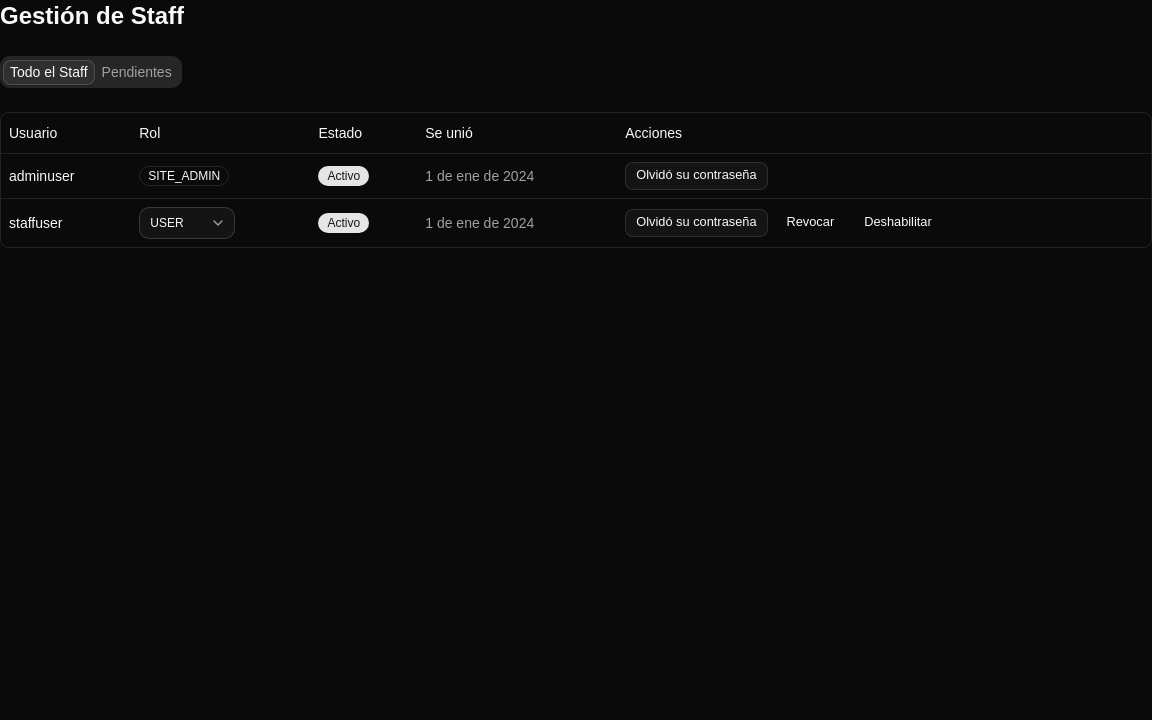
Test case: RecoveryCodeDialog (via StaffPage) › confirmation dialog shows the username and warning text
What coordinates should you click on to do the following:
click the button "Olvidó su contraseña" in the row of "staffuser"
I would click on:
 (696, 222)
Its box is [625, 208, 768, 236].
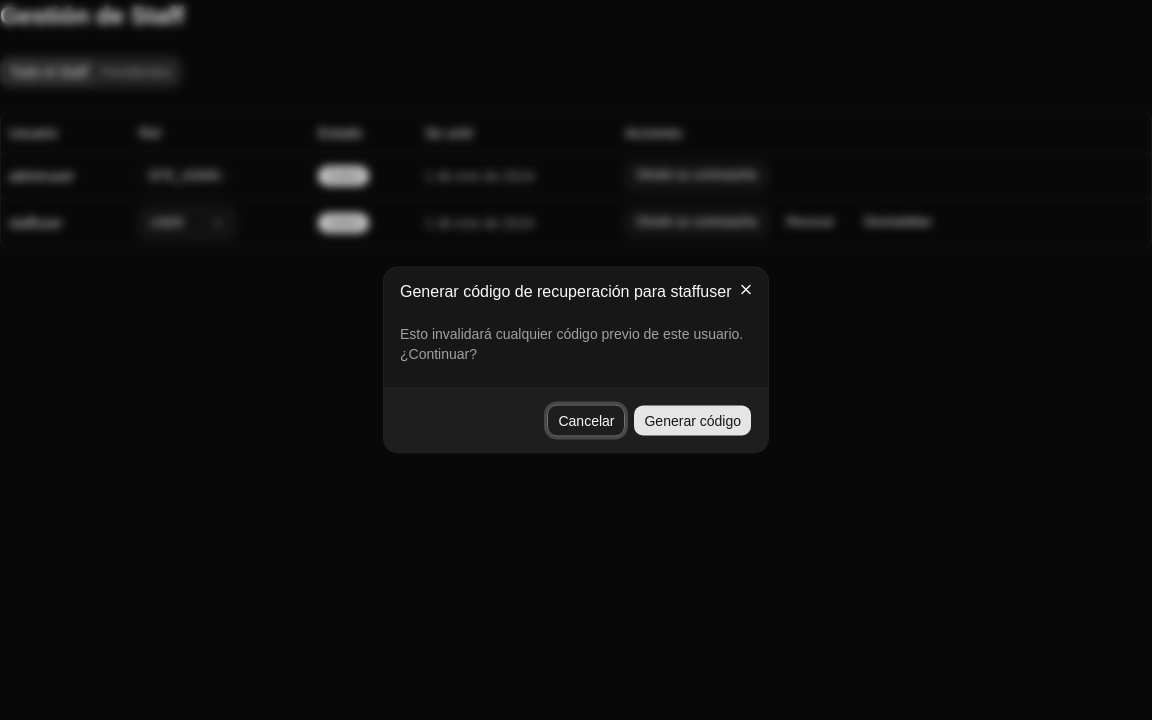
Now the heading "Generar código de recuperación para staffuser" is shown, box [400, 284, 752, 300]
Now the text "invalidará cualquier código previo" is shown, box [400, 326, 743, 362]
